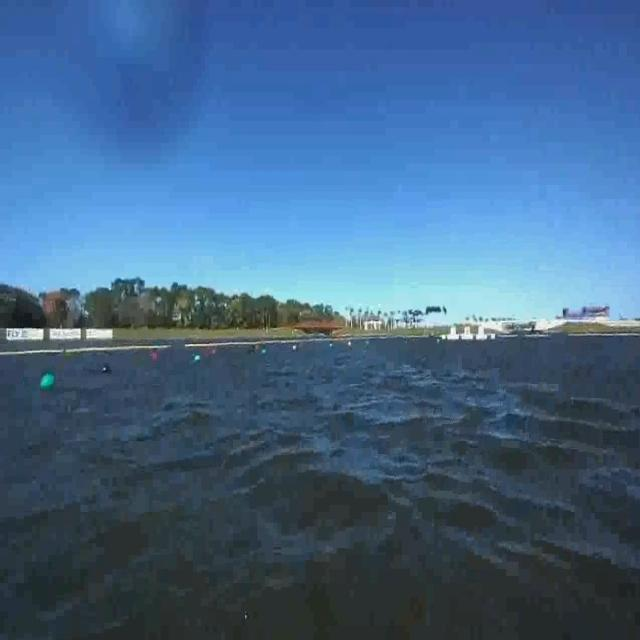green-buoy: (40, 374, 56, 392)
